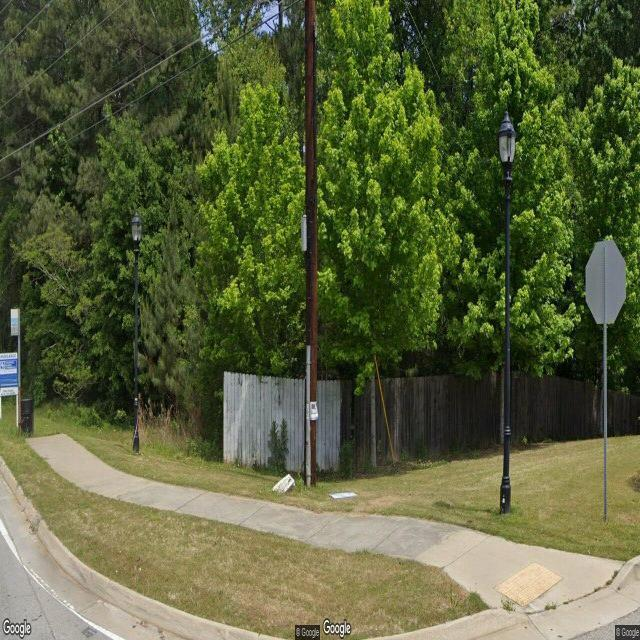trash_can: (21, 395, 34, 434)
